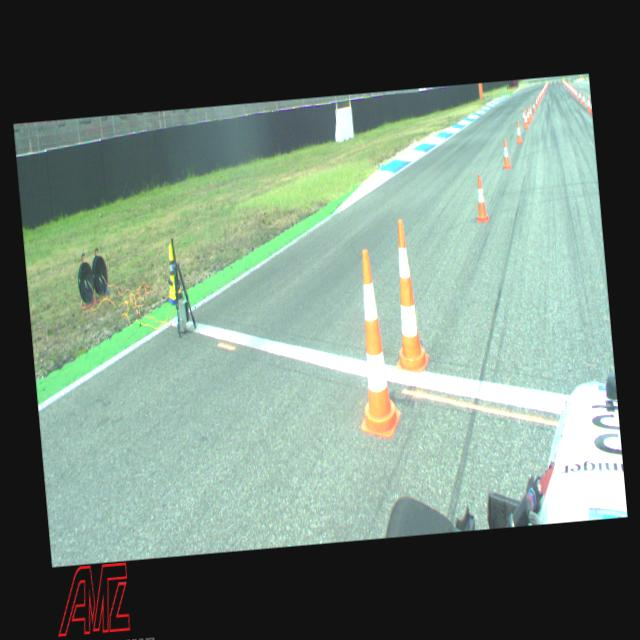large_orange_cone: (345, 246, 402, 439), (382, 218, 430, 373)
orange_cone: (473, 174, 489, 222), (500, 138, 510, 168), (515, 121, 522, 143), (586, 95, 590, 112), (524, 112, 528, 128), (521, 108, 525, 124), (526, 108, 530, 122), (528, 105, 532, 119), (582, 93, 586, 105), (589, 99, 592, 114), (578, 90, 581, 102), (532, 100, 535, 112), (538, 91, 542, 100), (535, 96, 538, 107), (537, 94, 540, 103), (574, 88, 576, 98), (572, 86, 574, 95), (571, 85, 573, 94), (540, 90, 542, 98), (542, 88, 544, 94)
yellow_cone: (164, 243, 180, 299)
